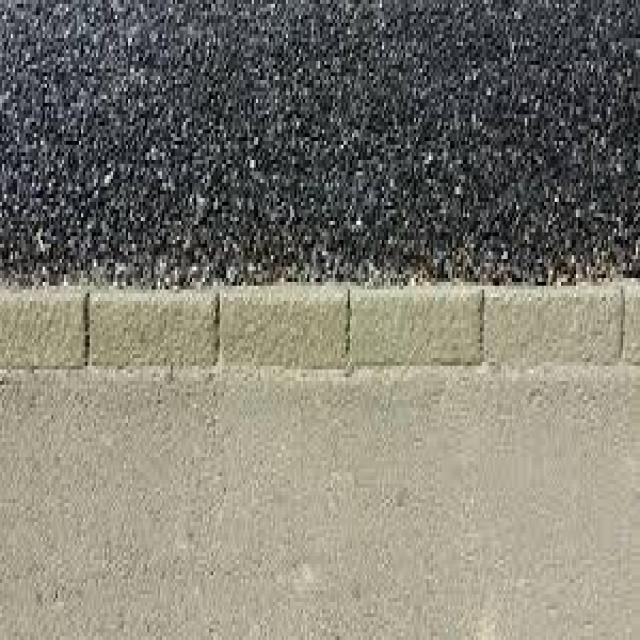curb: (486, 276, 628, 378), (344, 279, 486, 375), (213, 283, 352, 373), (85, 284, 218, 368), (0, 284, 96, 371)
